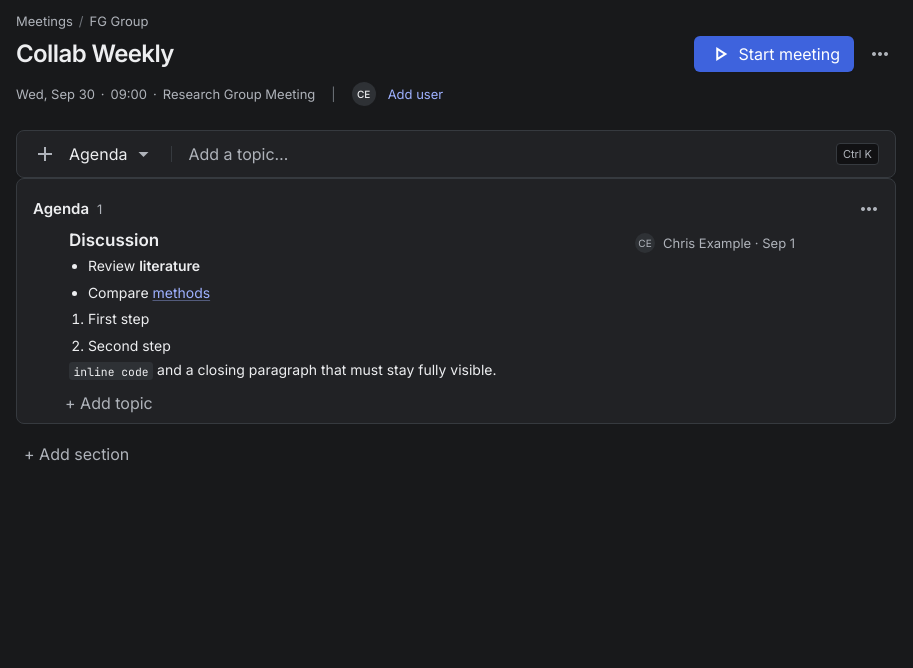
Scenario: MeetingDetailPage unified topic Markdown › a failed creation keeps the draft open
Click the button "+ Add topic".
click(109, 403)  # box [33,389,879,417]
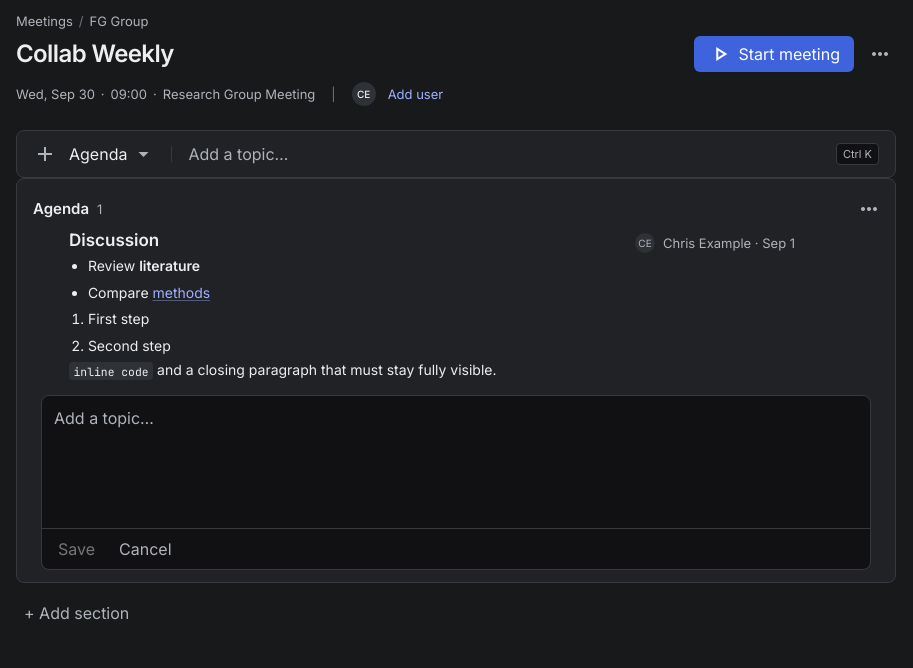
Type "Draft topic" into the text box named "Add a topic to Agenda".
click(456, 462); type("Draft topic")  # box [42,396,870,528]
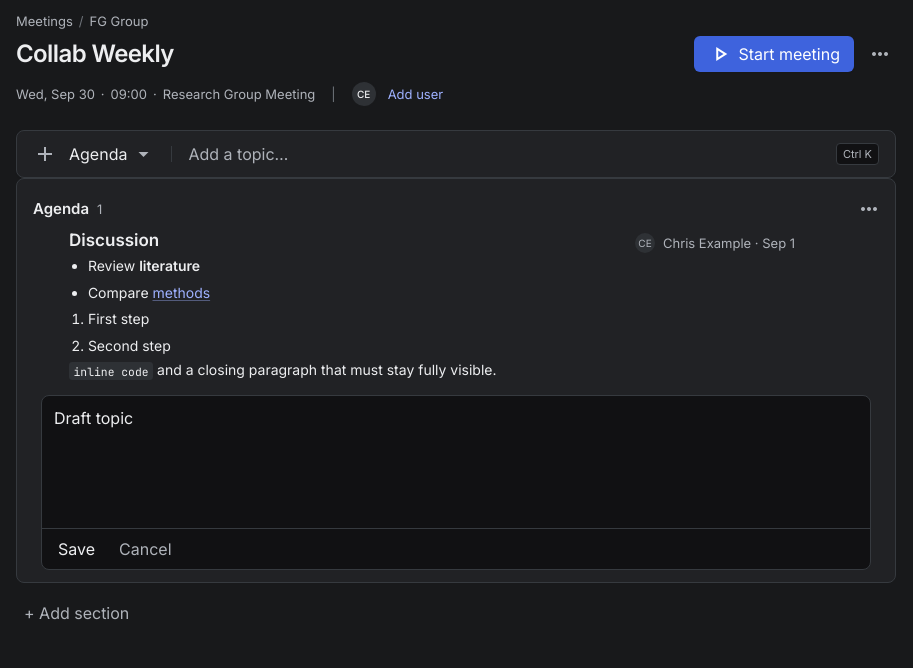
Click the button "Save".
click(76, 549)  # box [50,535,103,563]
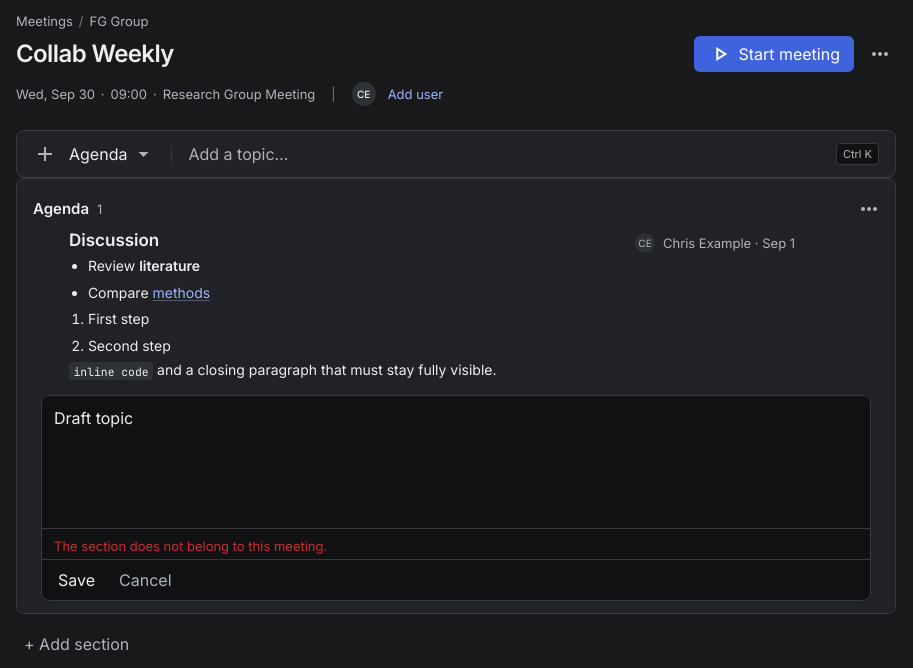
Expected: the message reads "The section does not belong to this meeting.", [54,538,327,554]
